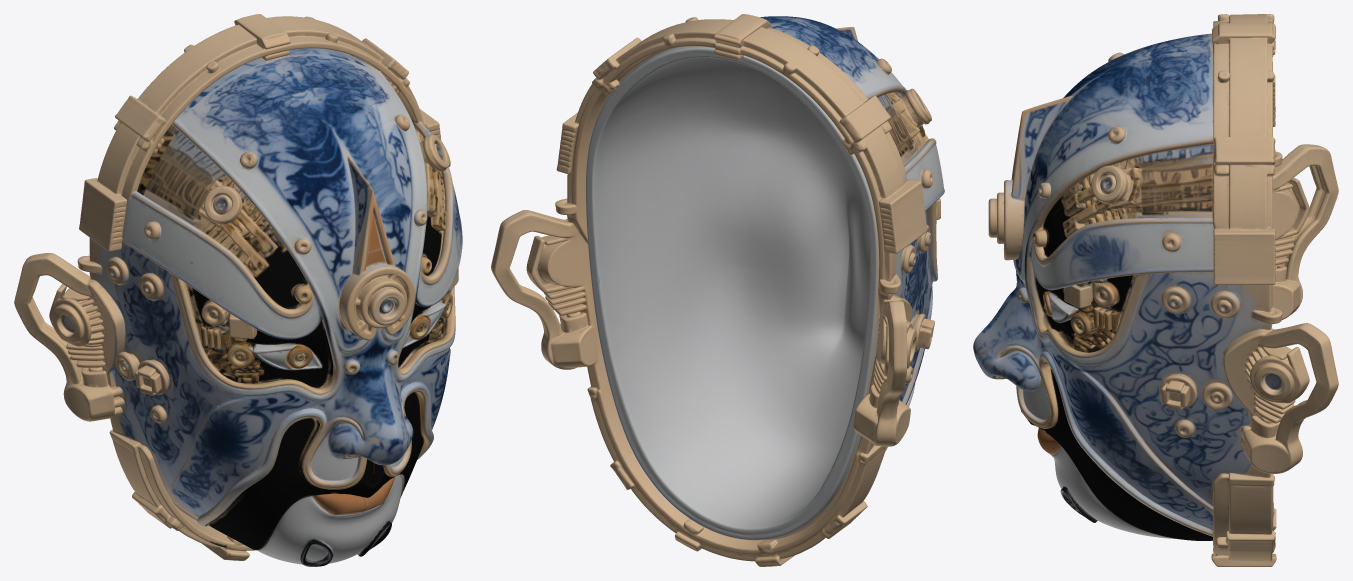
The model's file is Camera_1040g34o31hnup72ck2305nue8l108b6n3h7h6eg_compressed.glb.
3 views of the same model, side by side, from view 1: azimuth 30°, elevation 25°; view 2: azimuth 150°, elevation 25°; view 3: azimuth 270°, elevation 25° (orthographic).
Visible parts, largest first — view 1: texture_v128_768.001; view 2: texture_v128_768.001; view 3: texture_v128_768.001.
Boxes of the visible parts, x1,y1,x2,y2 form: texture_v128_768.001: (14,14,462,566); texture_v128_768.001: (491,14,944,566); texture_v128_768.001: (973,14,1338,566).
Size of the model in its own units: 0.9175 by 1.11 by 0.7044.
1 material, 1 textured.
